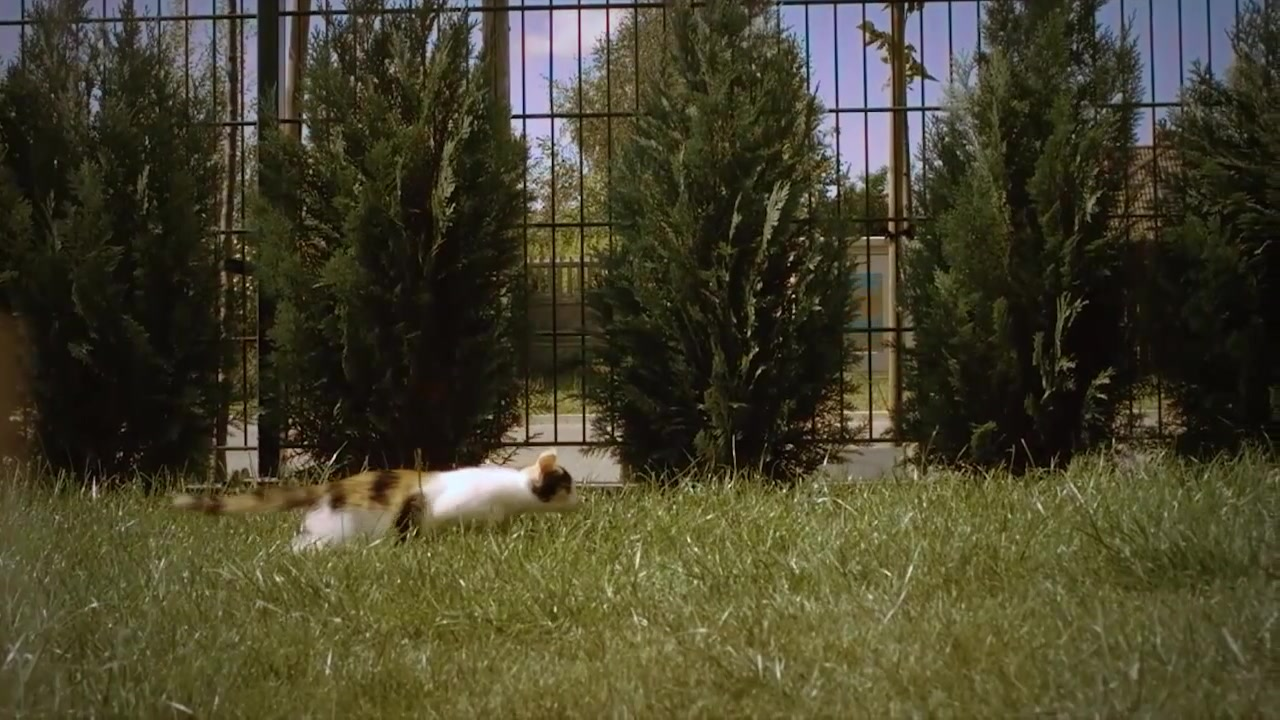cat: (164, 451, 591, 562)
